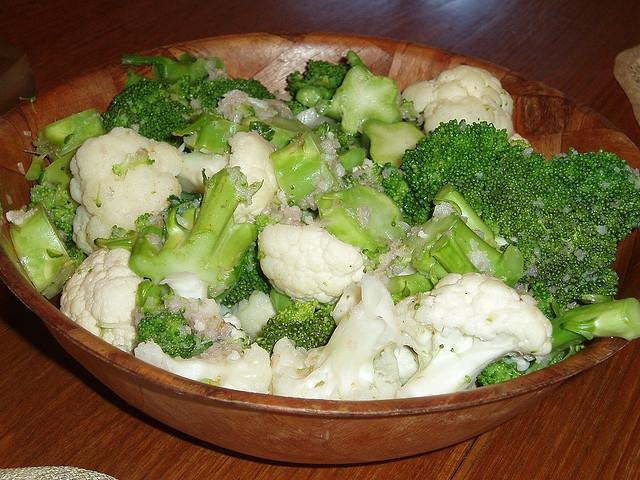broccoli: (93, 165, 264, 304), (480, 138, 588, 272), (400, 118, 510, 224), (516, 222, 618, 318), (404, 213, 524, 288), (315, 184, 405, 270), (8, 202, 77, 300), (104, 77, 190, 147), (254, 288, 338, 358), (550, 298, 640, 362), (330, 65, 403, 135), (270, 132, 336, 204), (22, 108, 108, 161), (176, 112, 249, 156), (240, 106, 312, 149), (362, 119, 426, 167), (28, 182, 78, 242), (288, 59, 348, 108), (135, 310, 195, 358), (120, 54, 208, 86), (200, 77, 276, 112), (36, 146, 82, 196), (335, 147, 365, 176), (134, 280, 162, 308), (240, 102, 256, 118)
cauliflower: (395, 272, 553, 399), (270, 274, 406, 400), (70, 127, 184, 256), (401, 65, 529, 144), (256, 223, 365, 306), (60, 248, 144, 351), (134, 340, 274, 394), (228, 131, 280, 224), (164, 288, 240, 349), (215, 89, 294, 125), (6, 208, 37, 226)
